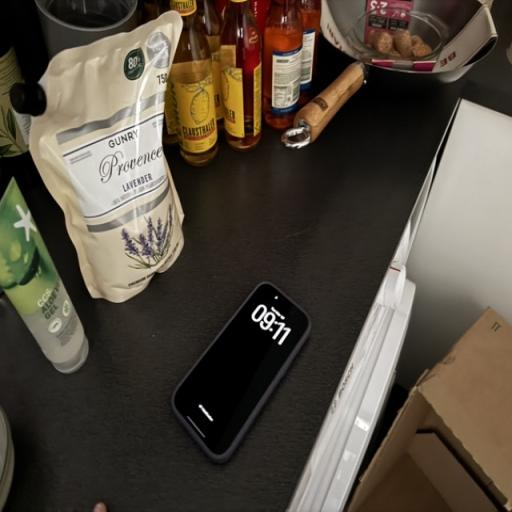phone: (181, 272, 319, 490)
